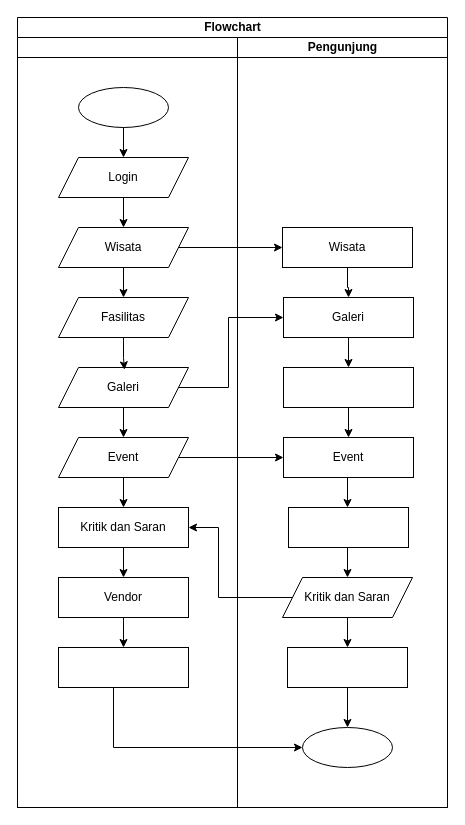
This 465x825 diagram has some shape labels left out. The box of each missing label's shape, as (x1, y1, x2, y2) in pixels:
Admin: (16, 36, 238, 808)
End: (302, 726, 392, 768)
Kontak: (288, 506, 408, 548)
Start: (78, 86, 168, 128)
Testimoni: (282, 366, 414, 408)
Ticket: (58, 646, 188, 688)
Unduh Kembangbelor App: (286, 646, 408, 688)
